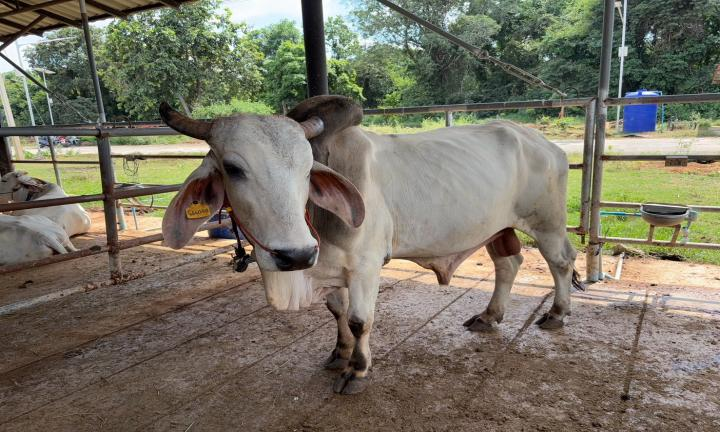Brahman: (159, 95, 582, 394)
